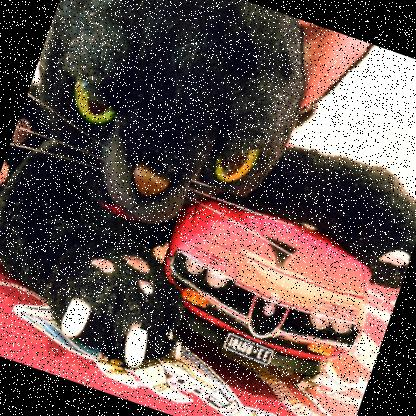Car: (140, 180, 382, 396)
